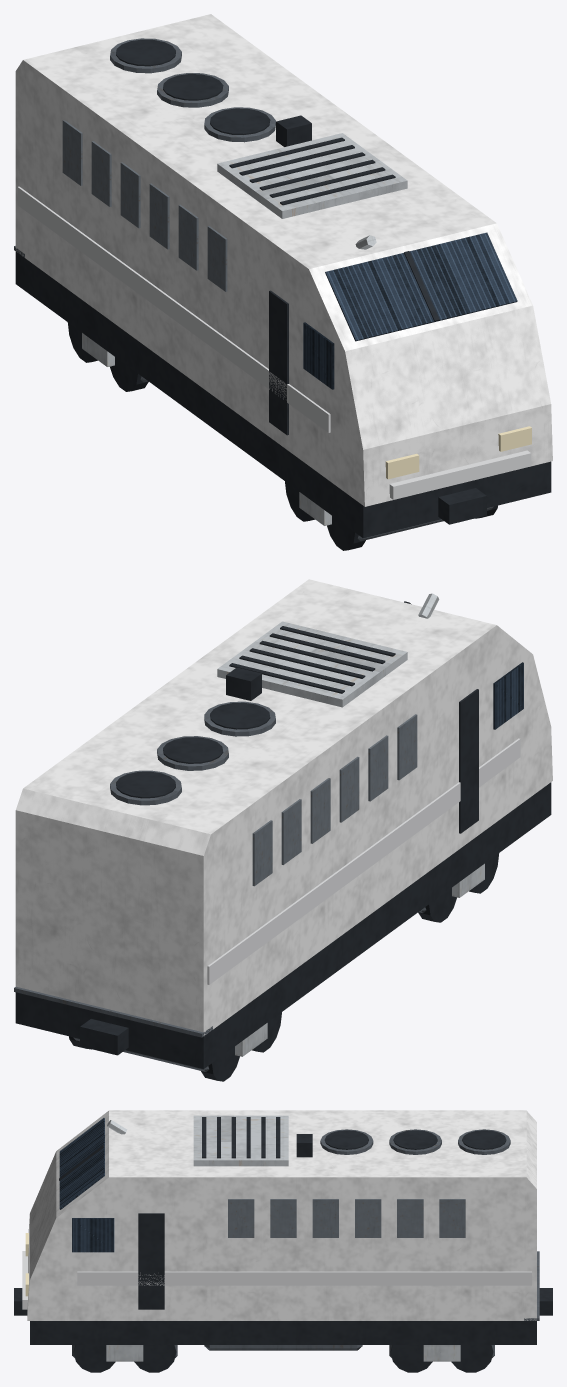
The model's file is train_engine.gltf.
The picture shows the model from 3 angles, top to bottom: view 1: azimuth 30°, elevation 25°; view 2: azimuth 150°, elevation 25°; view 3: azimuth 270°, elevation 25°; orthographic projection. The views are drawn at different scales.
Visible parts, largest first — view 1: TrainEngine; view 2: TrainEngine; view 3: TrainEngine.
Part boxes in pixels (left/top/right/bottom): TrainEngine: left=14, top=14, right=552, bottom=550; TrainEngine: left=14, top=579, right=552, bottom=1081; TrainEngine: left=14, top=1110, right=552, bottom=1372.
Size of the model in its own units: 0.306 by 0.4539 by 1.02.
Materials: 8 (6 with a texture image).
